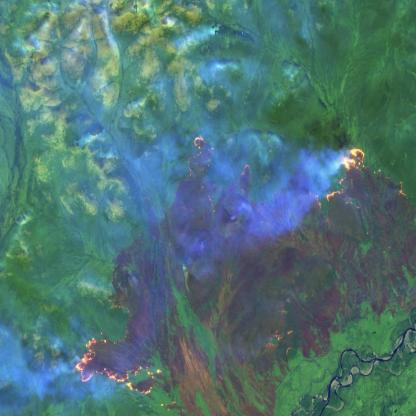fire: (182, 129, 416, 218), (73, 332, 165, 402)
